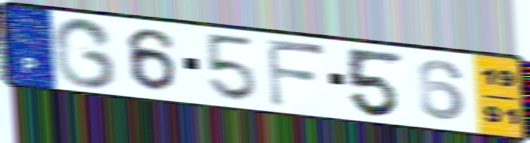5: (342, 45, 407, 118), (201, 32, 262, 103)
6: (123, 26, 179, 94), (415, 58, 470, 123)
F: (263, 35, 331, 110)
G: (50, 15, 120, 90)
